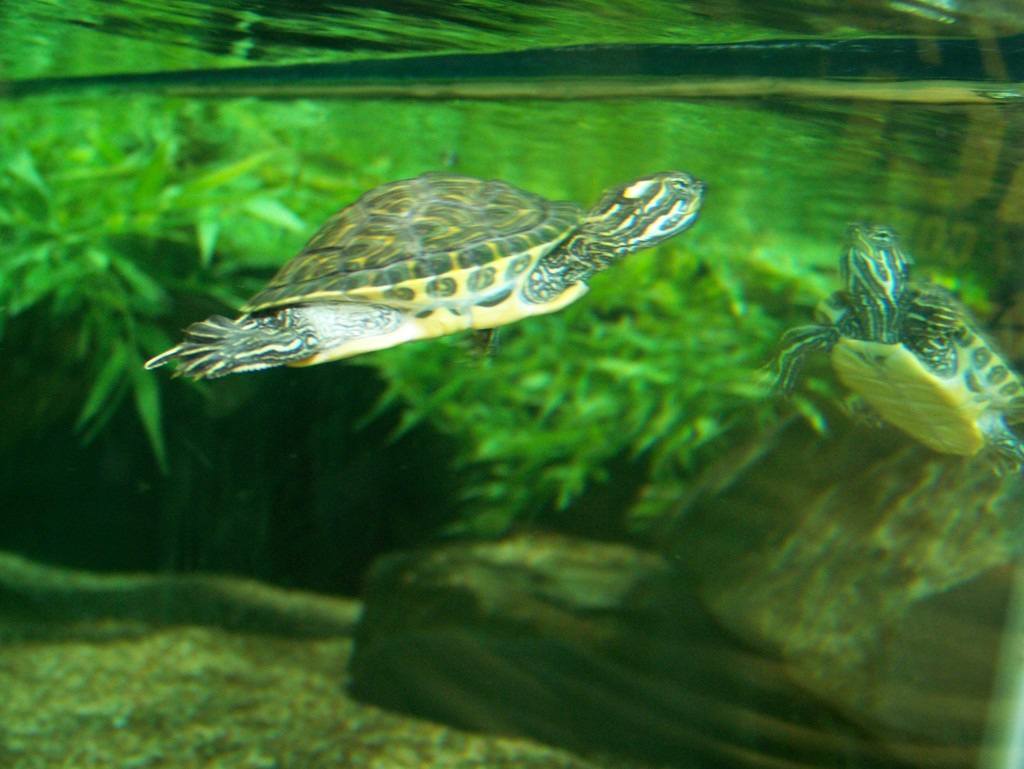Sea turtles: (137, 165, 699, 382), (743, 219, 1023, 476)
